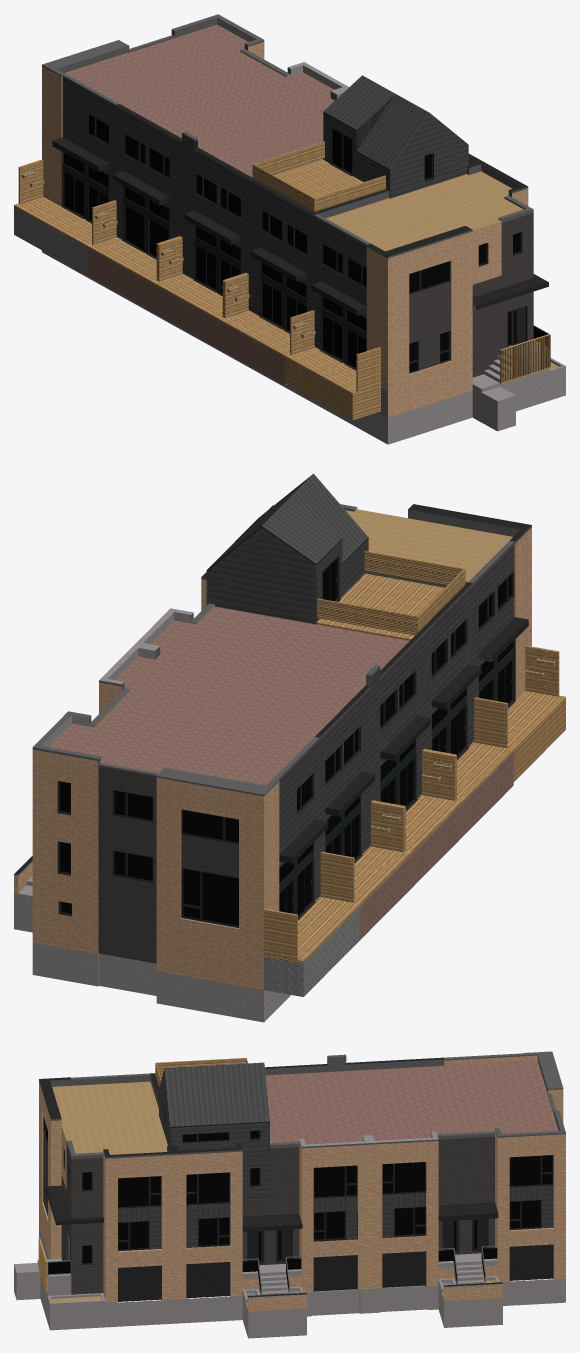
3 renders of one model, top to bottom at view 1: azimuth 30°, elevation 25°; view 2: azimuth 150°, elevation 25°; view 3: azimuth 270°, elevation 25°, orthographic. The views are drawn at different scales.
Parts seen in each view (by area): view 1: Mesh28, Mesh07, Mesh17, Mesh12, Mesh24; view 2: Mesh17, Mesh07, Mesh12, Mesh24, Mesh28, Mesh20; view 3: Mesh28, Mesh07, Mesh17, Mesh12, Mesh24.
Boxes of the visible parts, x1,y1,x2,y2 form: Mesh28: (285,161,565,444); Mesh07: (219,75,481,402); Mesh17: (14,14,267,292); Mesh12: (87,61,348,329); Mesh24: (153,88,347,365); Mesh17: (14,706,360,1022); Mesh07: (201,473,513,836); Mesh12: (29,644,411,939); Mesh24: (135,603,462,888); Mesh28: (268,504,565,781); Mesh20: (181,834,238,877); Mesh28: (14,1073,173,1330); Mesh07: (150,1058,277,1338); Mesh17: (444,1051,565,1326); Mesh12: (346,1057,473,1327); Mesh24: (265,1054,369,1336).
Size of the model in its own units: 694 by 571 by 1241.
Materials: 25 (20 with a texture image).
